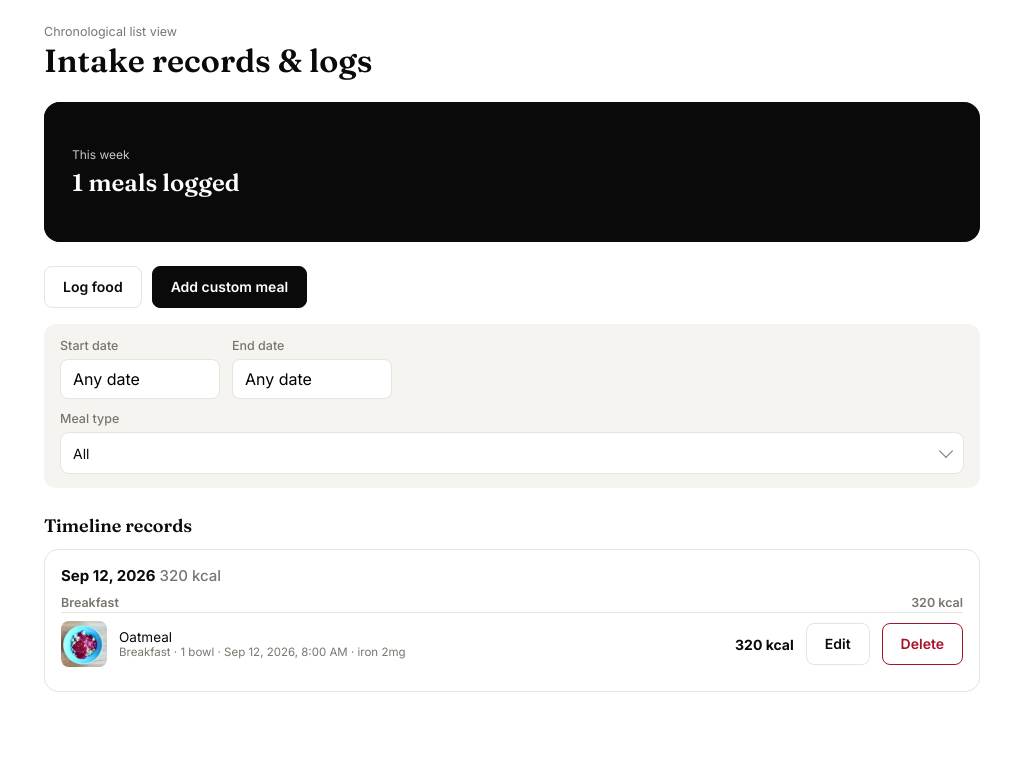
MealsPage › opens the edit form with existing values and saves updates
Click the button "Edit" at (838, 644), box [806, 623, 870, 665]
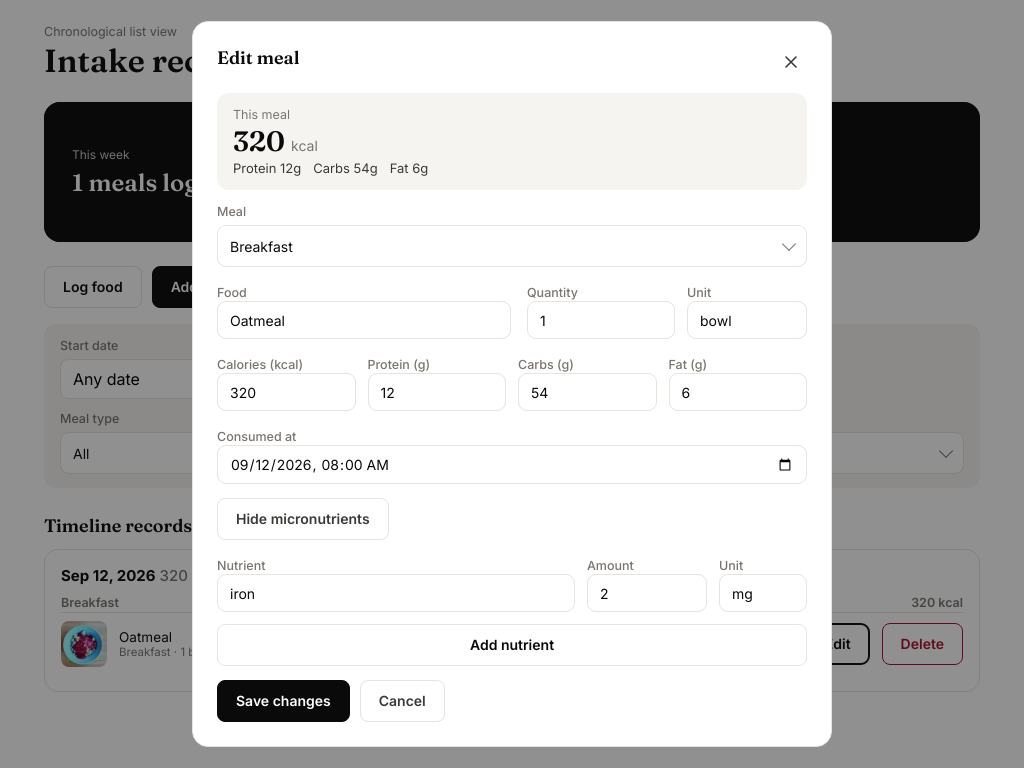
Expected: the field showing "Oatmeal" is shown
Expected: the field showing "iron" is shown, [217, 574, 575, 612]
Replace the text in the field labelled "Food" with "Steel-cut oatmeal" at (364, 320), box [217, 301, 511, 339]
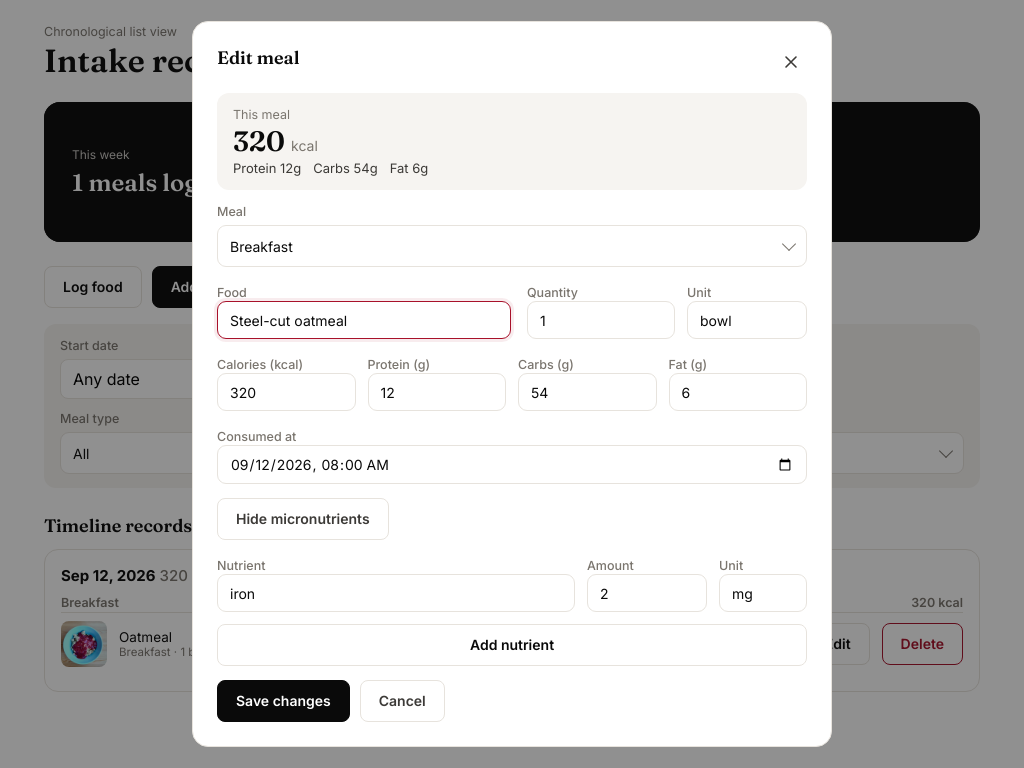
Click the button "Save changes" at (283, 701), box [217, 680, 350, 722]
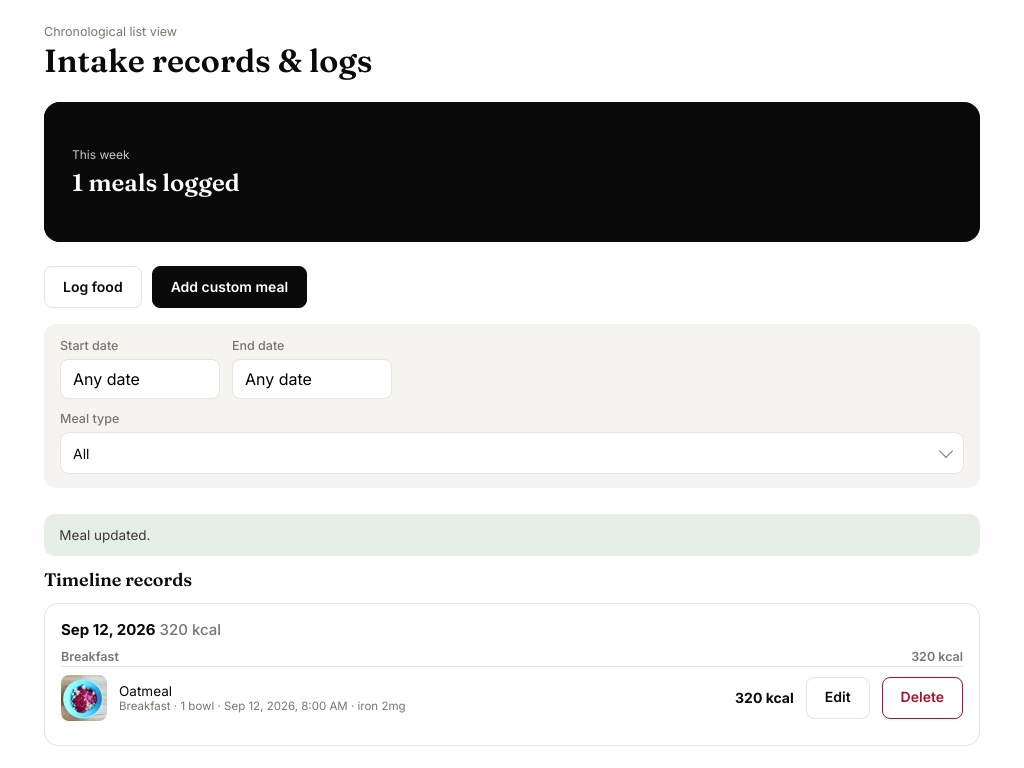
Expected: the text "Meal updated." is shown, [44, 514, 980, 556]
